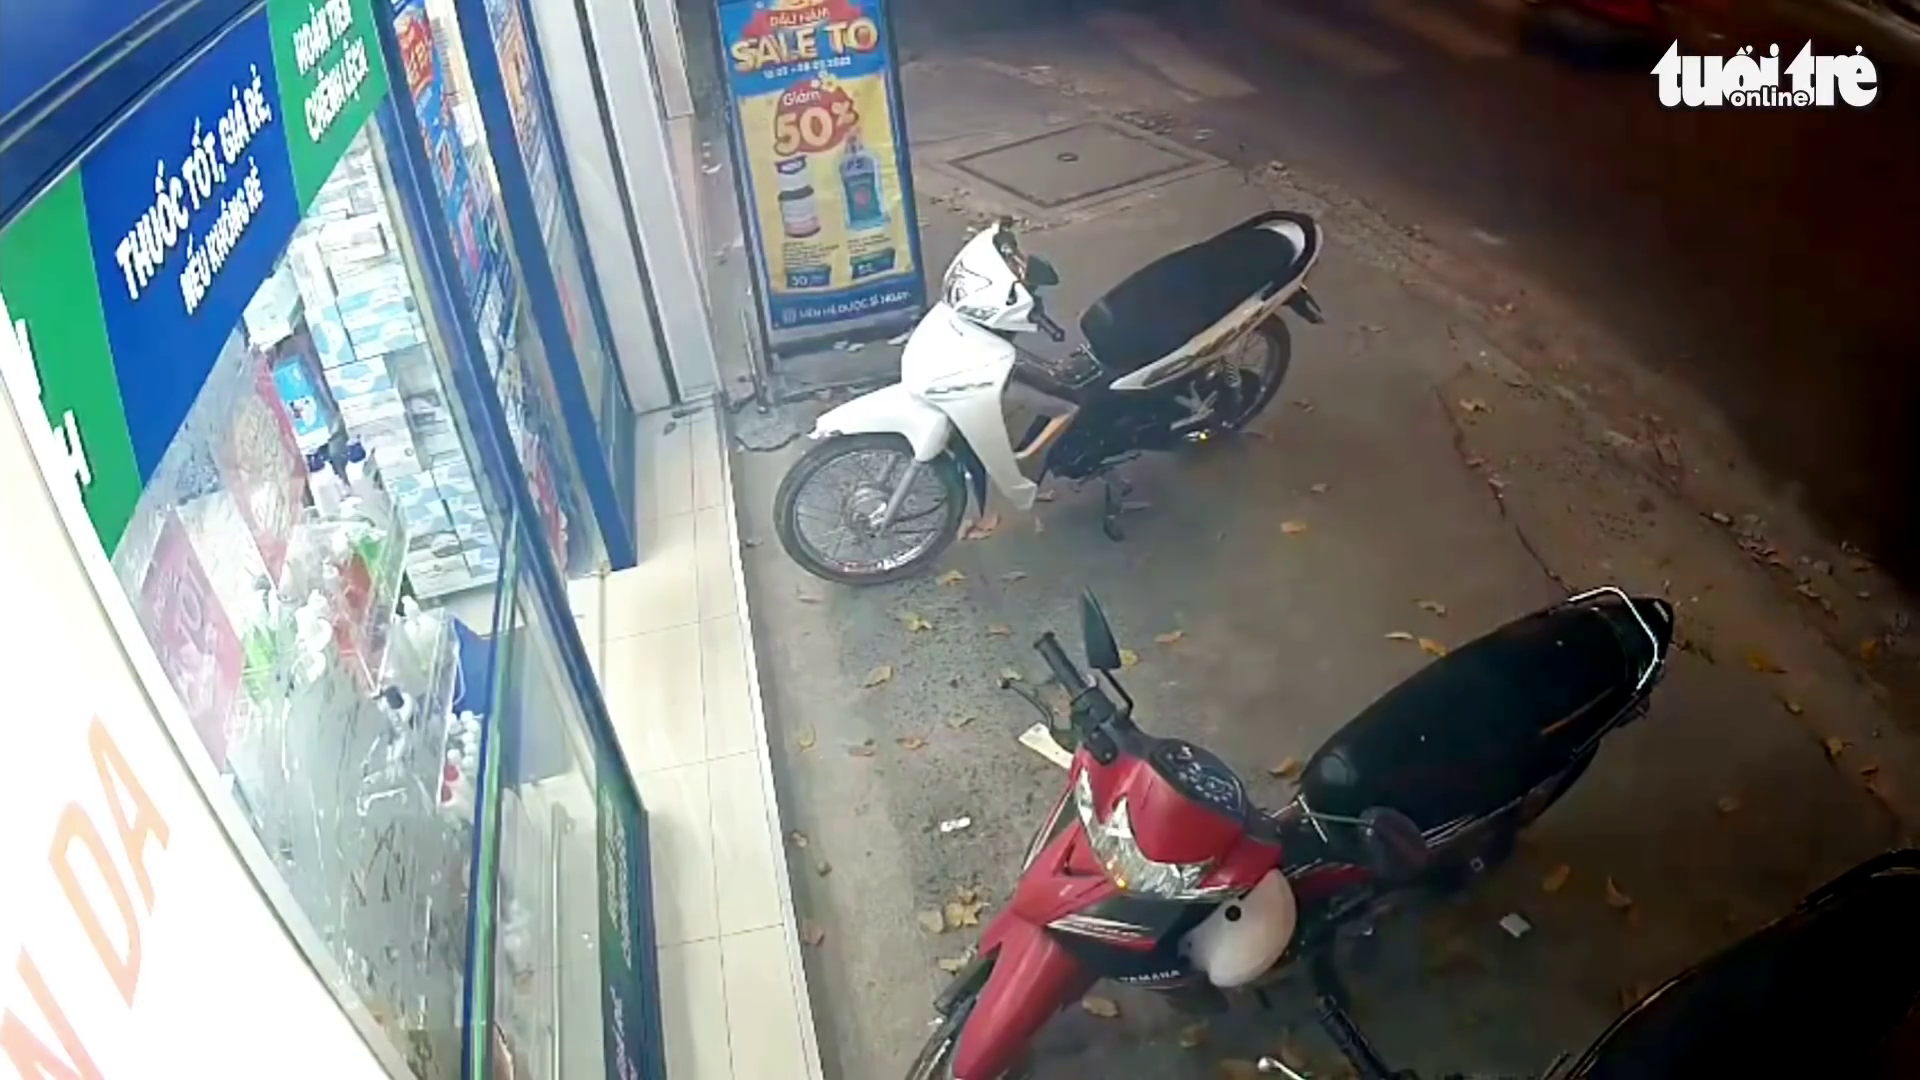Motorcycle: (916, 583, 1677, 1069), (773, 207, 1327, 587)
